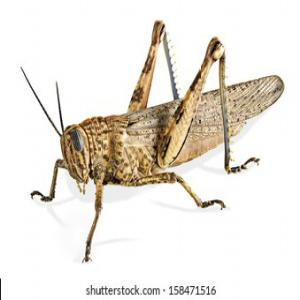locust: (45, 40, 278, 220)
